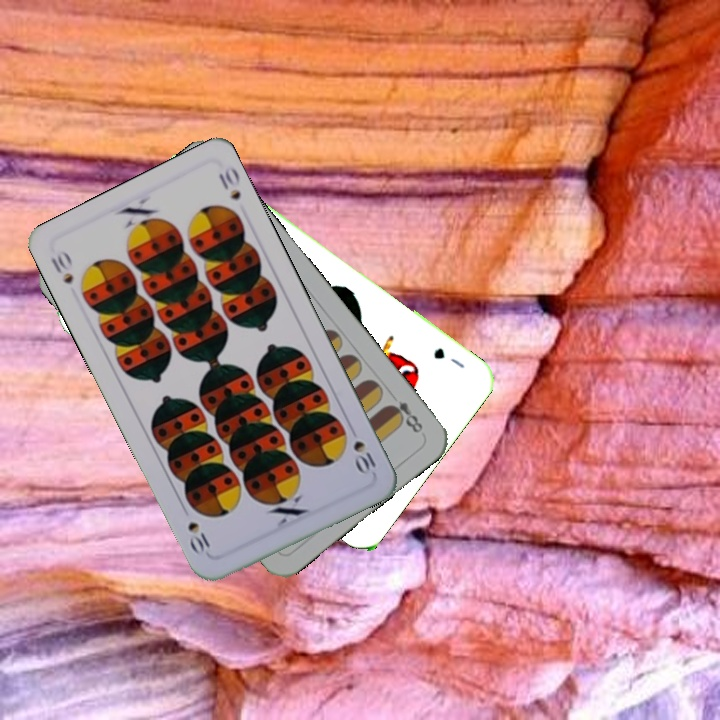E8: (383, 397, 426, 436)
GU: (429, 343, 468, 371)
S10: (345, 421, 379, 477), (47, 246, 76, 287)
